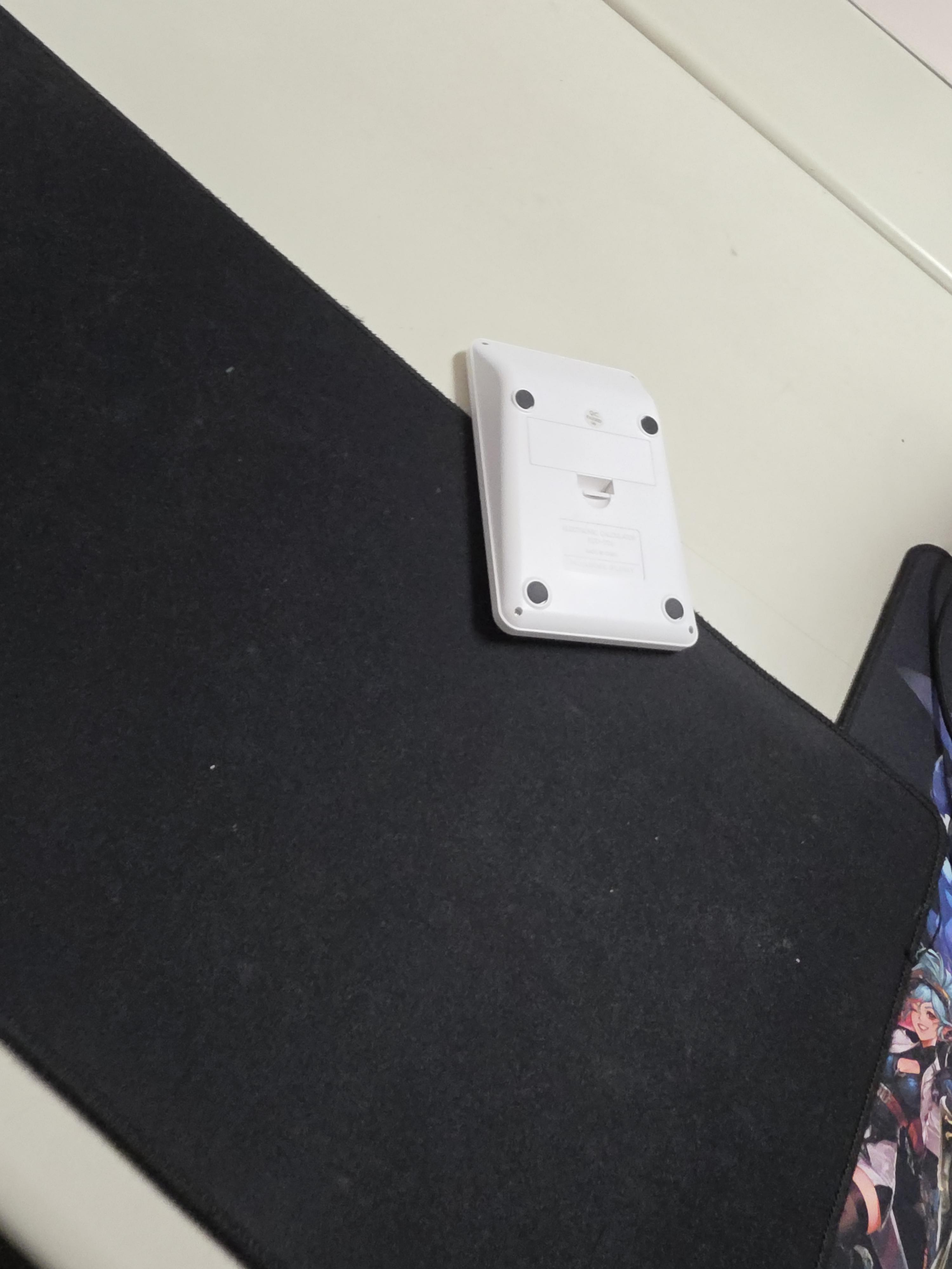calculator: (466, 339, 699, 651)
